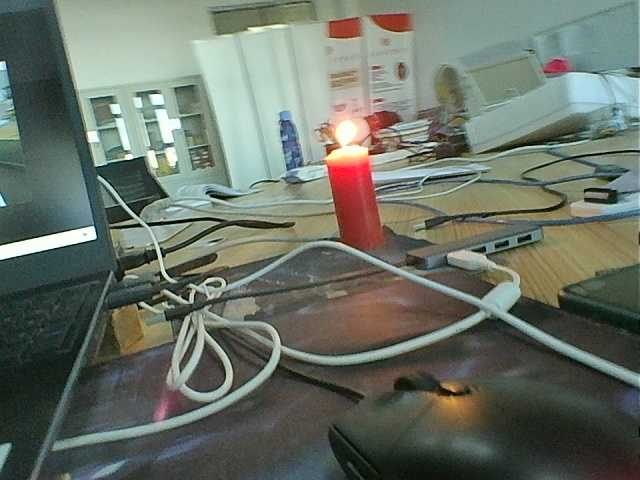candle: (317, 154, 394, 253)
fire: (330, 116, 363, 150)
